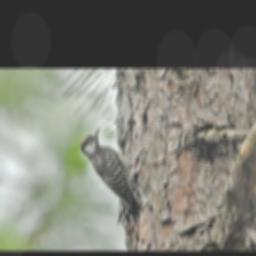Woodpecker: (80, 124, 144, 220)
